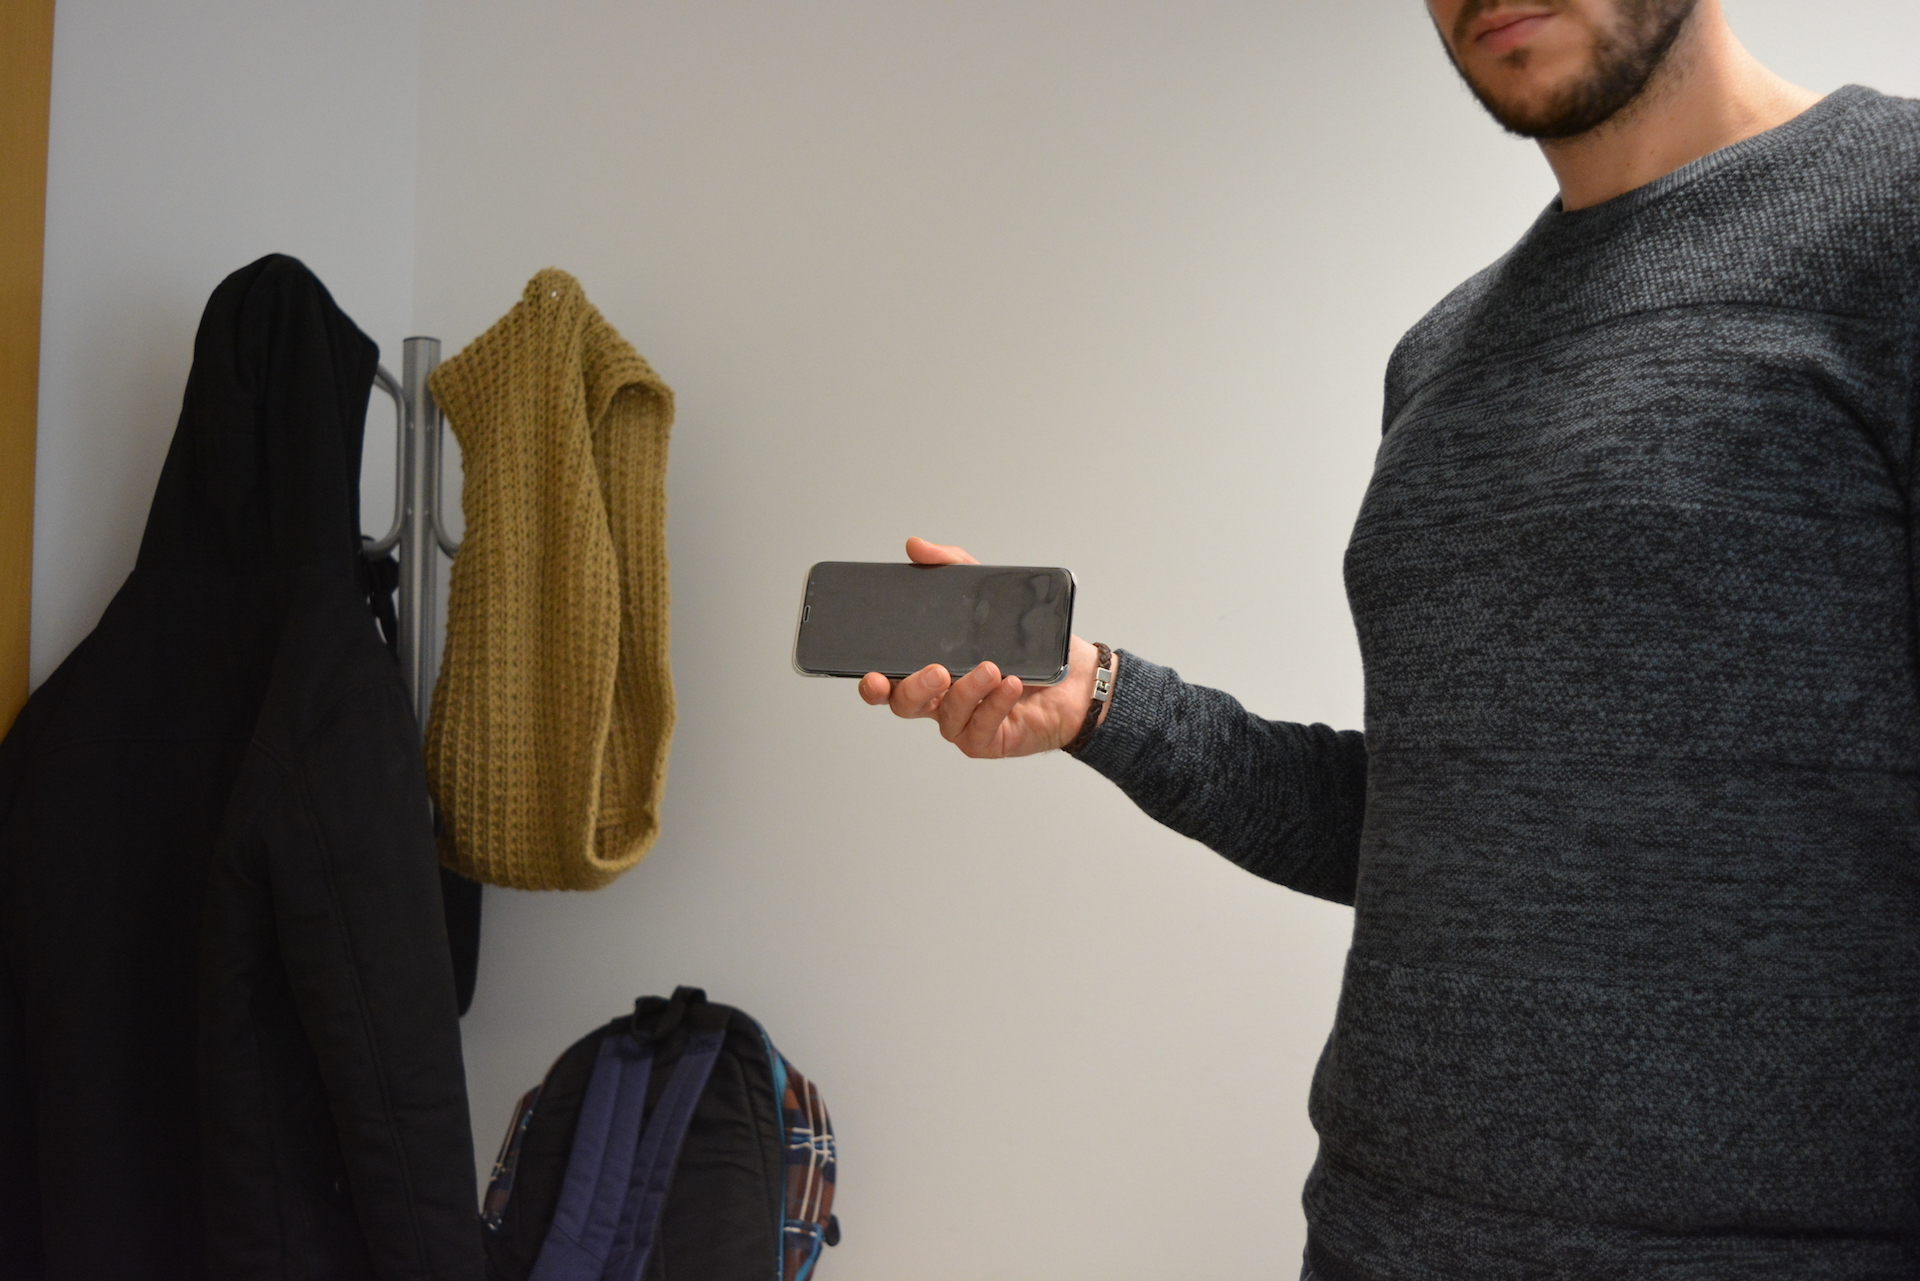smartphone: (789, 559, 1079, 689)
